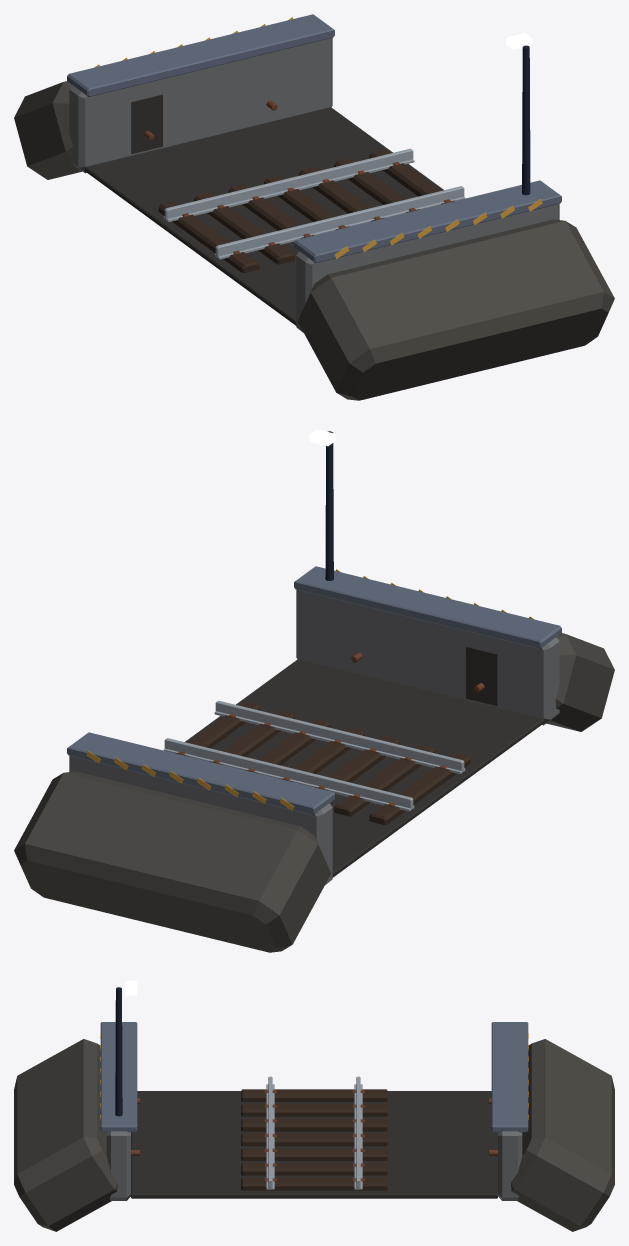
Rendered from switchyard_cut_channel.glb.
3 renders of one model, top to bottom at view 1: azimuth 30°, elevation 25°; view 2: azimuth 150°, elevation 25°; view 3: azimuth 270°, elevation 25°, orthographic. The views are drawn at different scales.
Parts seen in each view (by area): view 1: cut_embankment1, cut_floor, cut_wall-1, cut_wall_cap-1, cut_wall_cap1, cut_wall1, cut_embankment-1, cut_track_rail1, cut_track_rail-1, cut_stain-1, cut_track_sleeper0, cut_track_sleeper1 (+9 smaller); view 2: cut_embankment-1, cut_floor, cut_wall1, cut_wall_cap1, cut_wall_cap-1, cut_wall-1, cut_embankment1, cut_track_rail-1, cut_track_rail1, cut_stain1, cut_track_sleeper0, cut_track_sleeper1 (+8 smaller); view 3: cut_floor, cut_embankment-1, cut_embankment1, cut_wall_cap-1, cut_wall_cap1, cut_track_sleeper6, cut_track_sleeper3, cut_track_sleeper2, cut_track_sleeper1, cut_track_sleeper5, cut_track_sleeper0, cut_track_sleeper4 (+7 smaller).
Boxes of the visible parts, box(x1,y1,x2,y2) form: cut_embankment1: box(297, 219, 614, 400); cut_floor: box(85, 107, 443, 325); cut_wall-1: box(69, 38, 332, 173); cut_wall_cap-1: box(67, 14, 334, 96); cut_wall_cap1: box(294, 180, 561, 263); cut_wall1: box(296, 204, 559, 332); cut_embankment-1: box(14, 81, 82, 179); cut_track_rail1: box(215, 186, 464, 257); cut_track_rail-1: box(164, 148, 413, 220); cut_stain-1: box(131, 94, 162, 153); cut_track_sleeper0: box(158, 201, 259, 273); cut_track_sleeper1: box(193, 192, 294, 264); cut_embankment-1: box(14, 771, 330, 952); cut_floor: box(185, 659, 543, 877); cut_wall1: box(296, 589, 559, 725); cut_wall_cap1: box(294, 566, 561, 648); cut_wall_cap-1: box(67, 732, 334, 814); cut_wall-1: box(69, 756, 332, 884); cut_embankment1: box(546, 633, 614, 731); cut_track_rail-1: box(164, 738, 413, 809); cut_track_rail1: box(215, 700, 464, 772); cut_stain1: box(466, 646, 497, 705); cut_track_sleeper0: box(369, 753, 470, 824); cut_track_sleeper1: box(334, 744, 435, 816); cut_floor: box(131, 1091, 497, 1198); cut_embankment-1: box(511, 1039, 614, 1231); cut_embankment1: box(14, 1039, 117, 1231); cut_wall_cap-1: box(491, 1022, 528, 1132); cut_wall_cap1: box(100, 1022, 137, 1132); cut_track_sleeper6: box(241, 1177, 387, 1190); cut_track_sleeper3: box(241, 1133, 387, 1146); cut_track_sleeper2: box(241, 1118, 387, 1131); cut_track_sleeper1: box(241, 1104, 387, 1116); cut_track_sleeper5: box(241, 1163, 387, 1175); cut_track_sleeper0: box(241, 1089, 387, 1101); cut_track_sleeper4: box(241, 1148, 387, 1160).
Bounding box in the file's own units: 4.32 × 4.32 × 9.83.
